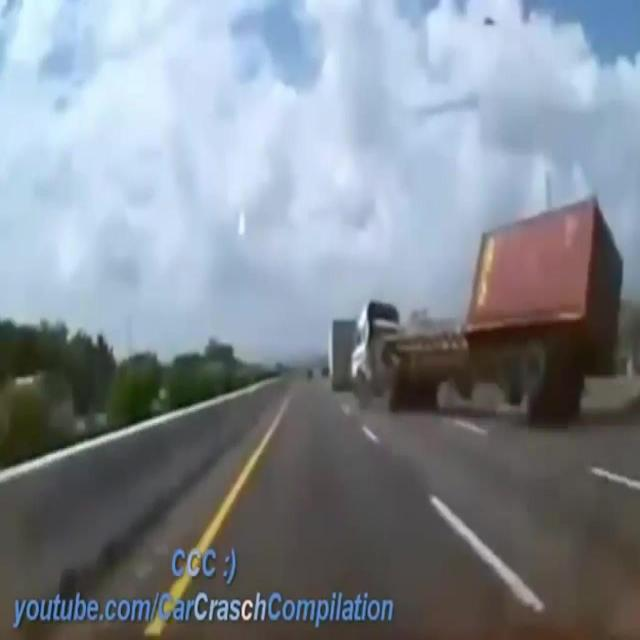severe: (350, 196, 626, 430)
